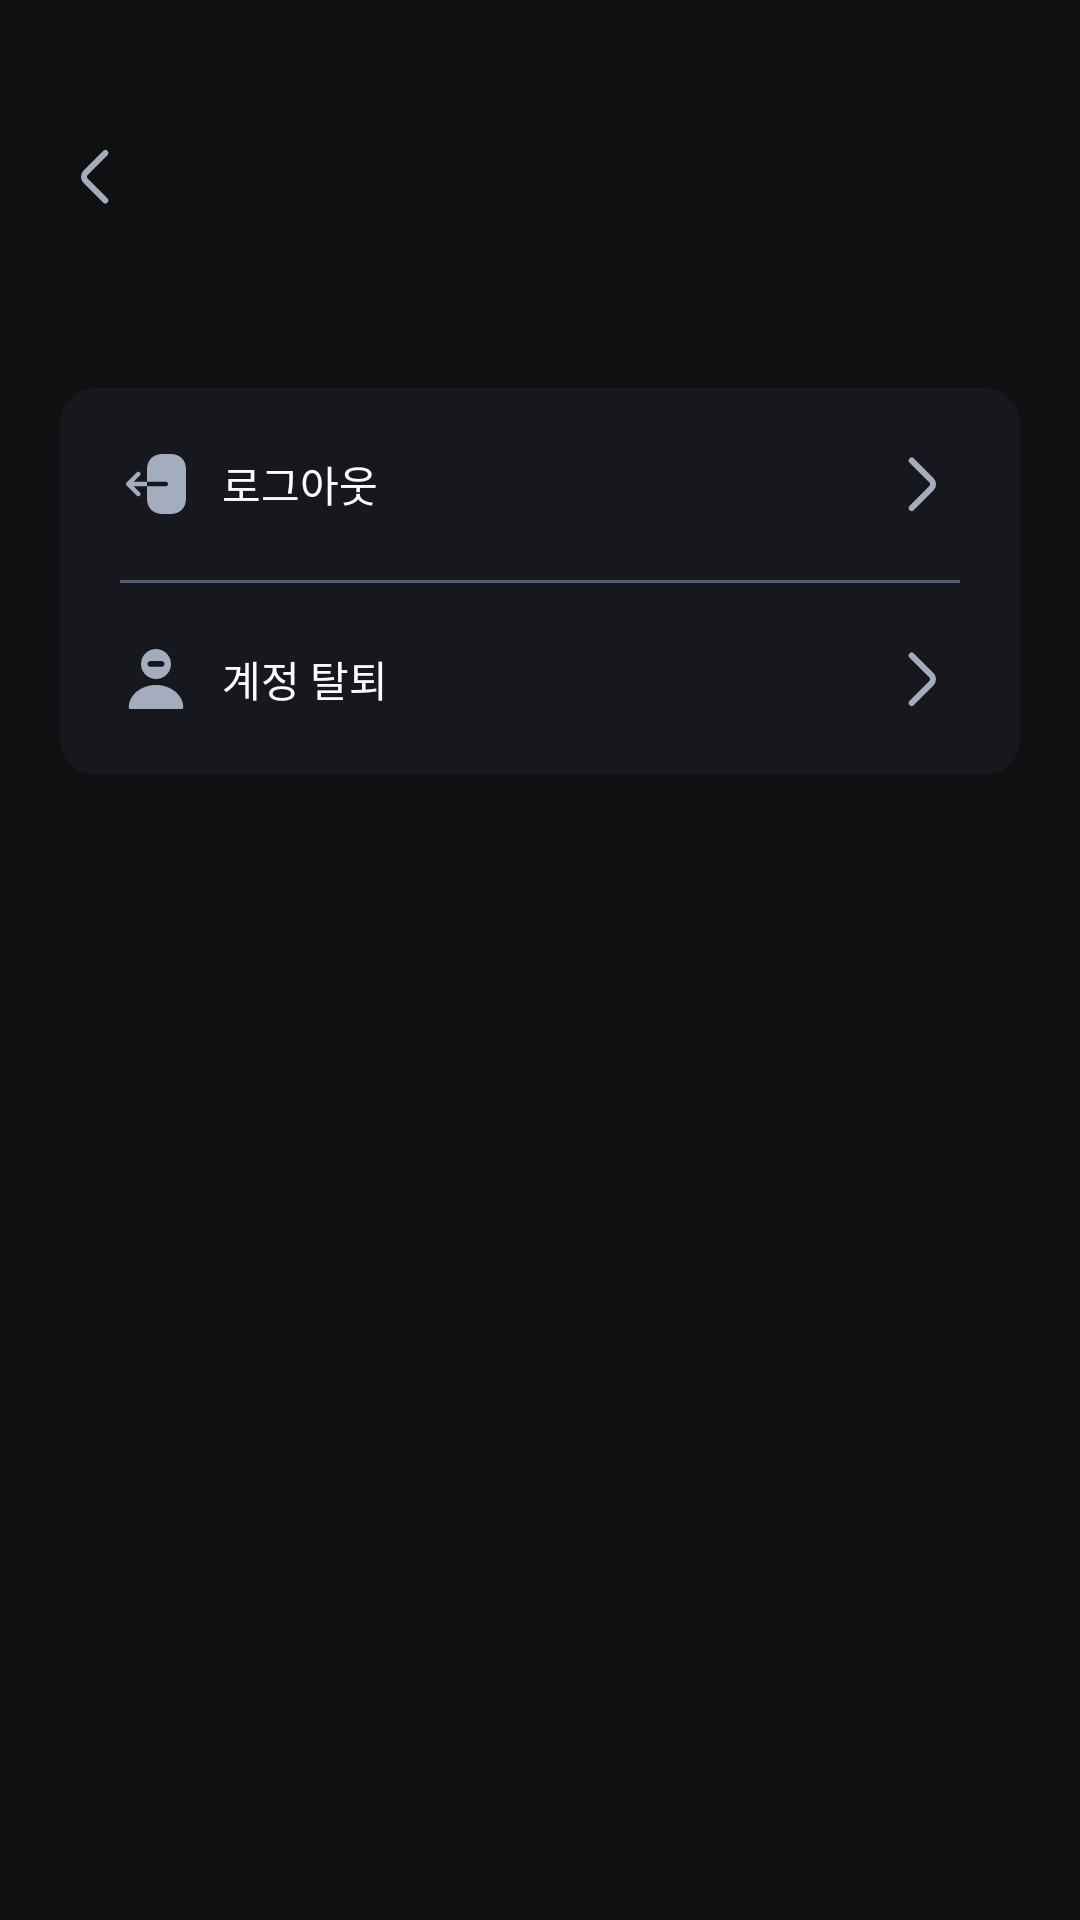

Icon bounding boxes for this 1080px x 1920px phone screenshot, format (x1, y1, x2, y2):
arrow left: (81, 150, 109, 204)
arrow right: (908, 457, 936, 511), (908, 652, 936, 706)
withdrawal: (128, 649, 184, 709)
